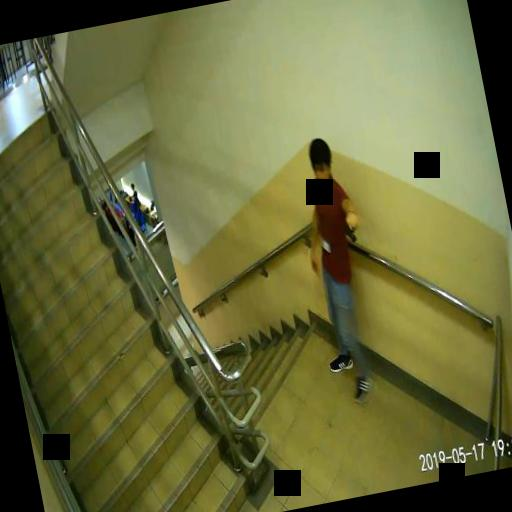Handgun: (341, 218, 360, 242)
